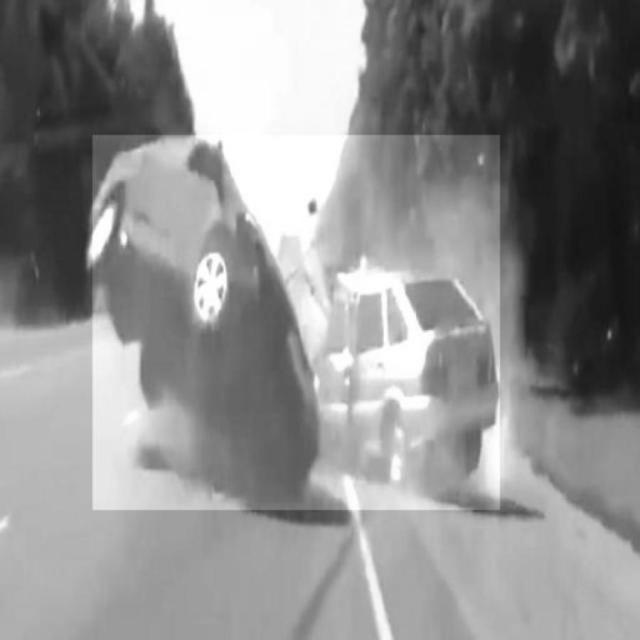accident: (93, 136, 501, 511)
